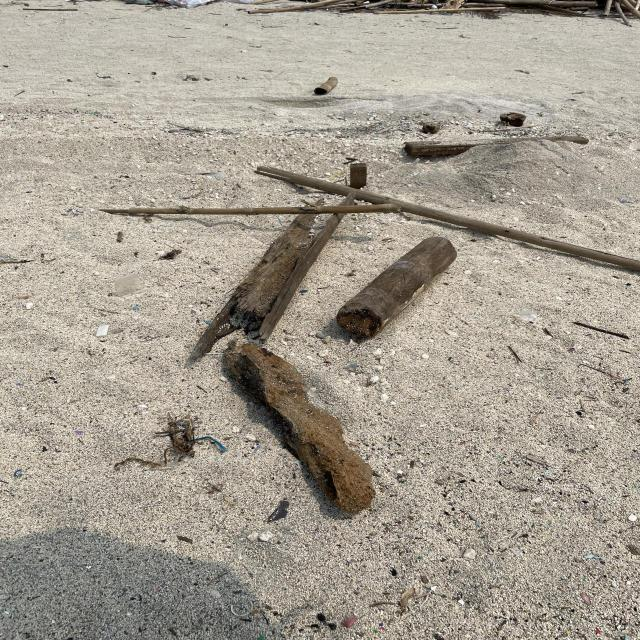wood_waste: (225, 342, 378, 518), (334, 239, 462, 345)
